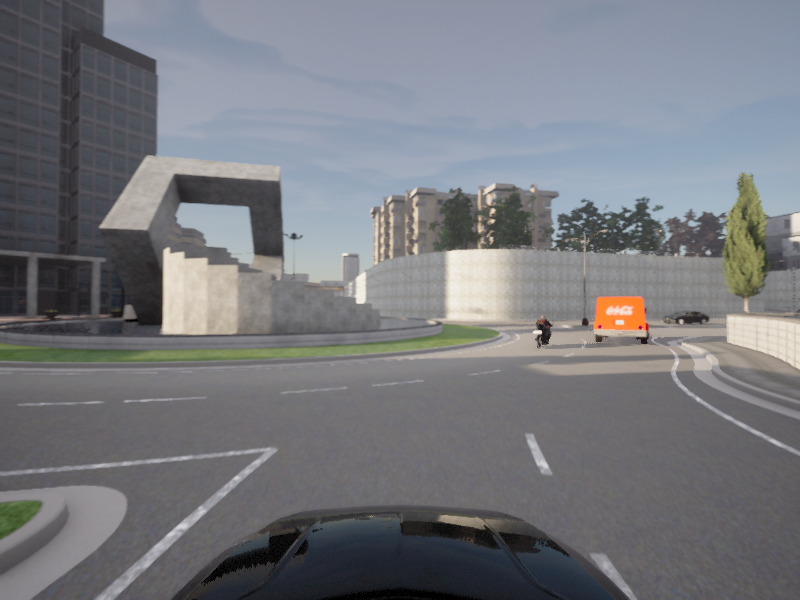vehicle: (591, 295, 650, 345), (527, 314, 556, 349)
